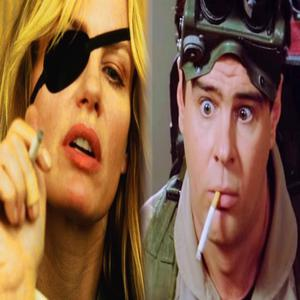cigarette: (193, 191, 221, 264), (27, 128, 43, 163)
